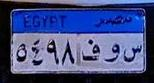4: (30, 36, 44, 67)
5: (14, 44, 28, 63)
8: (61, 38, 76, 67)
9: (45, 37, 60, 66)
seen: (122, 42, 142, 63)
waw: (81, 38, 100, 66), (102, 42, 120, 66)
